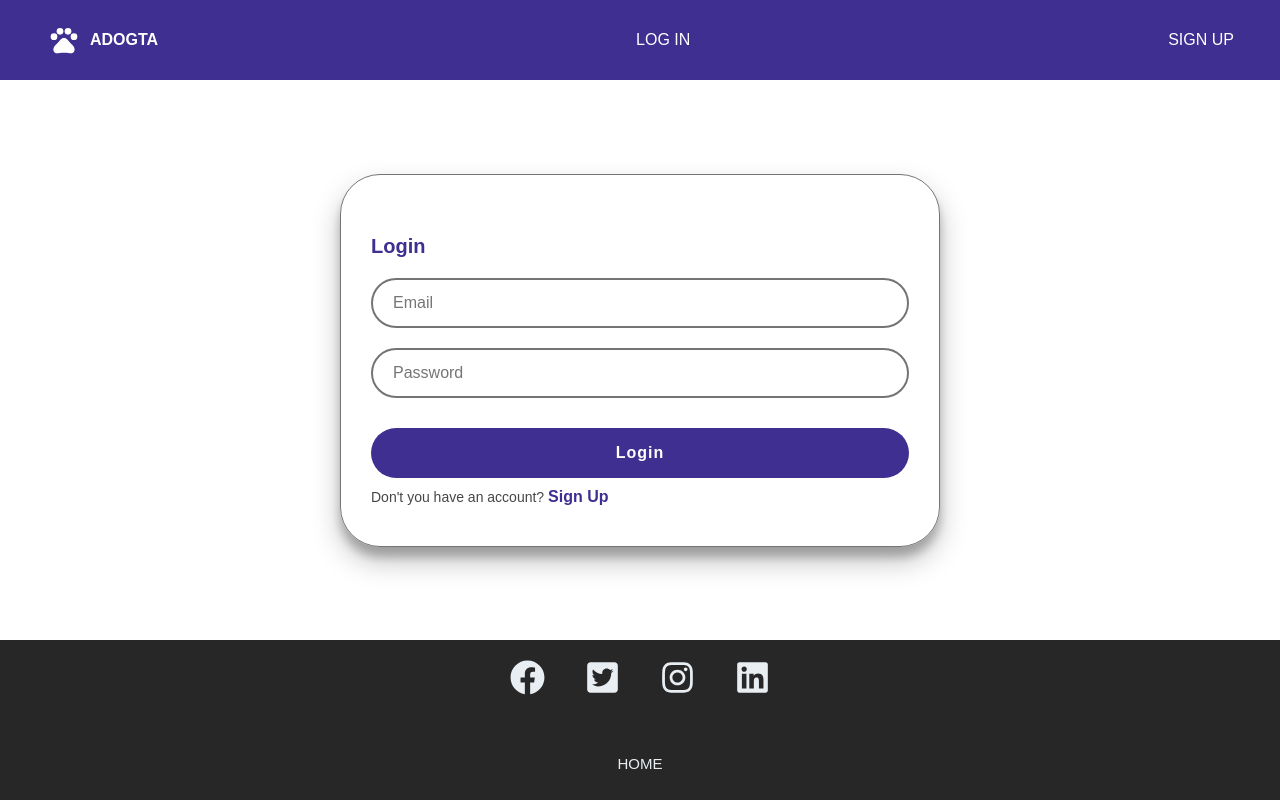
Login Tests › Shows invalid email
The image size is (1280, 800).
Type "pepitotest.com" into the field named "email". click: [640, 303]
box: [371,278,909,328]
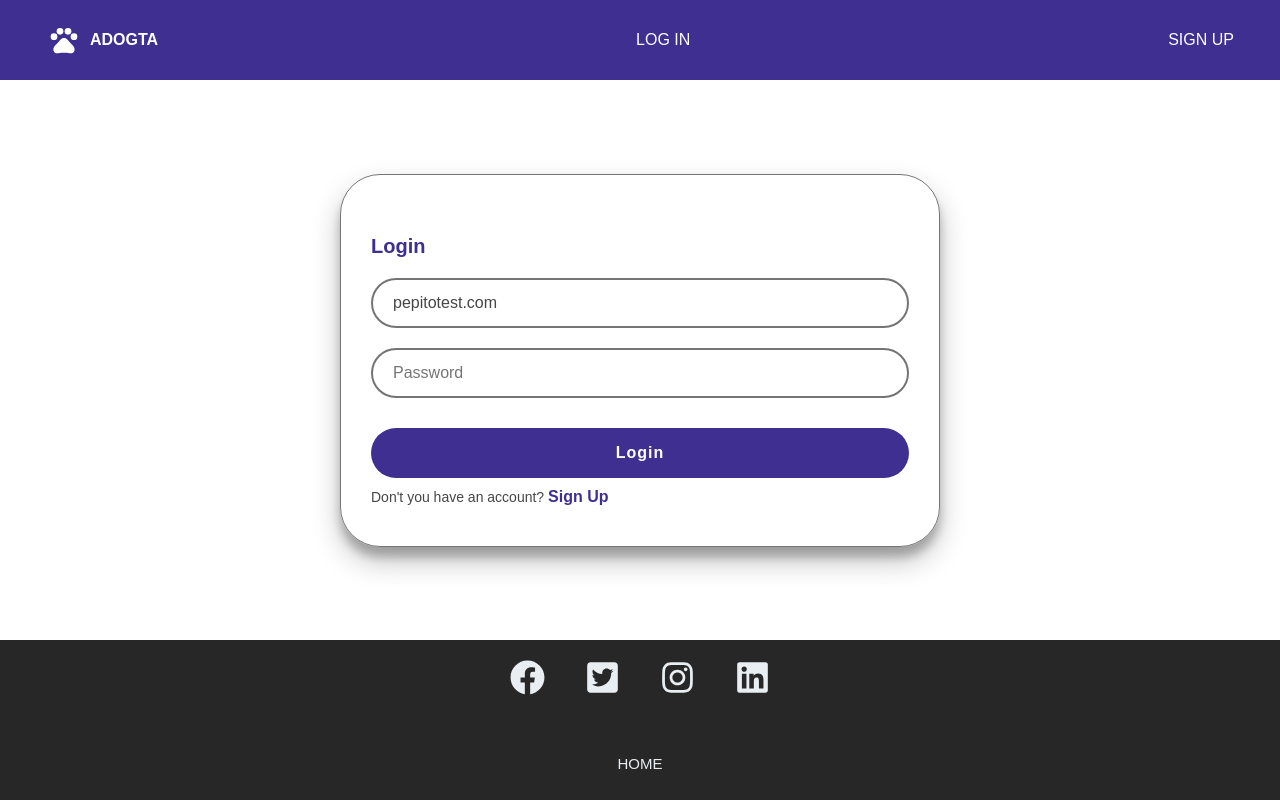
Click the password field named "password". click: [640, 373]
box: [371,348,909,398]
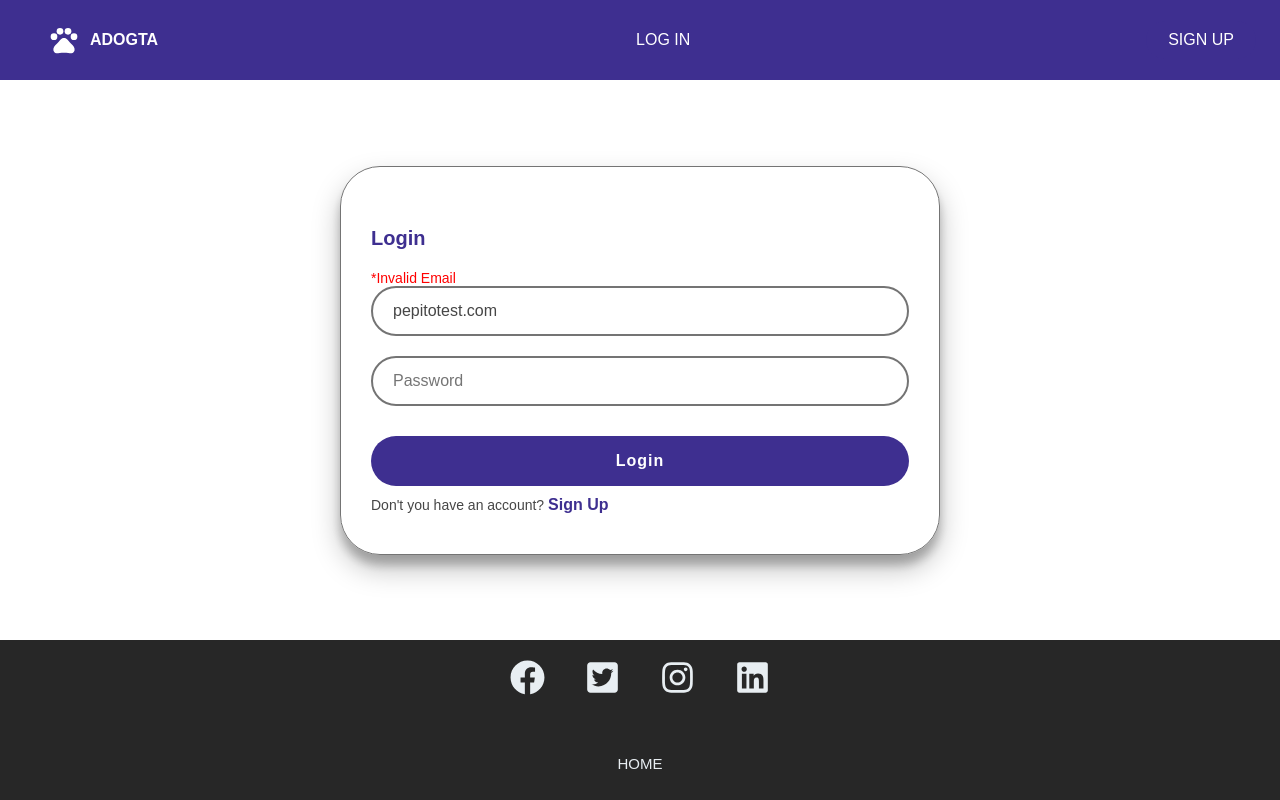
Expected: the text "Invalid Email" is shown, [371,270,456,286]
